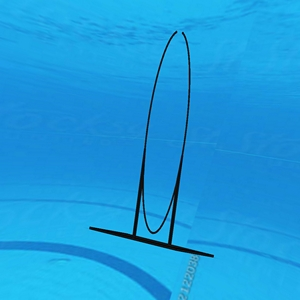circle: (88, 29, 215, 261)
